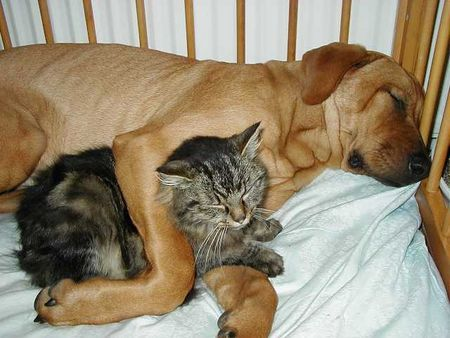tosa_inu: (0, 41, 431, 338)
